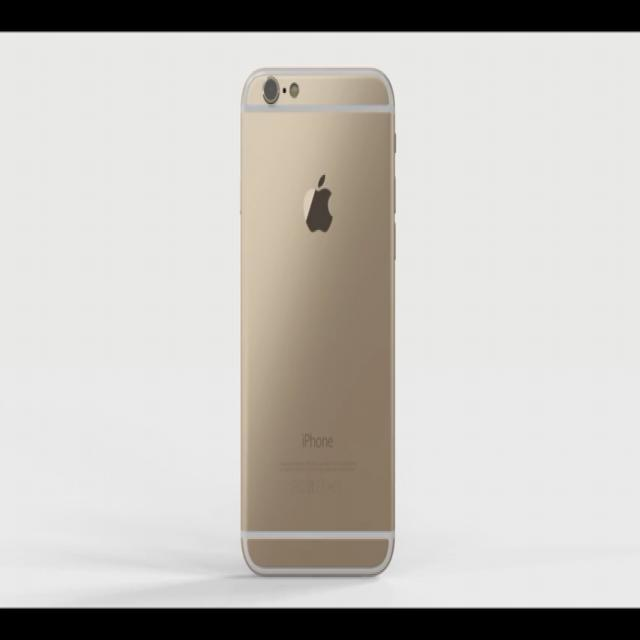phone: (238, 66, 396, 580)
